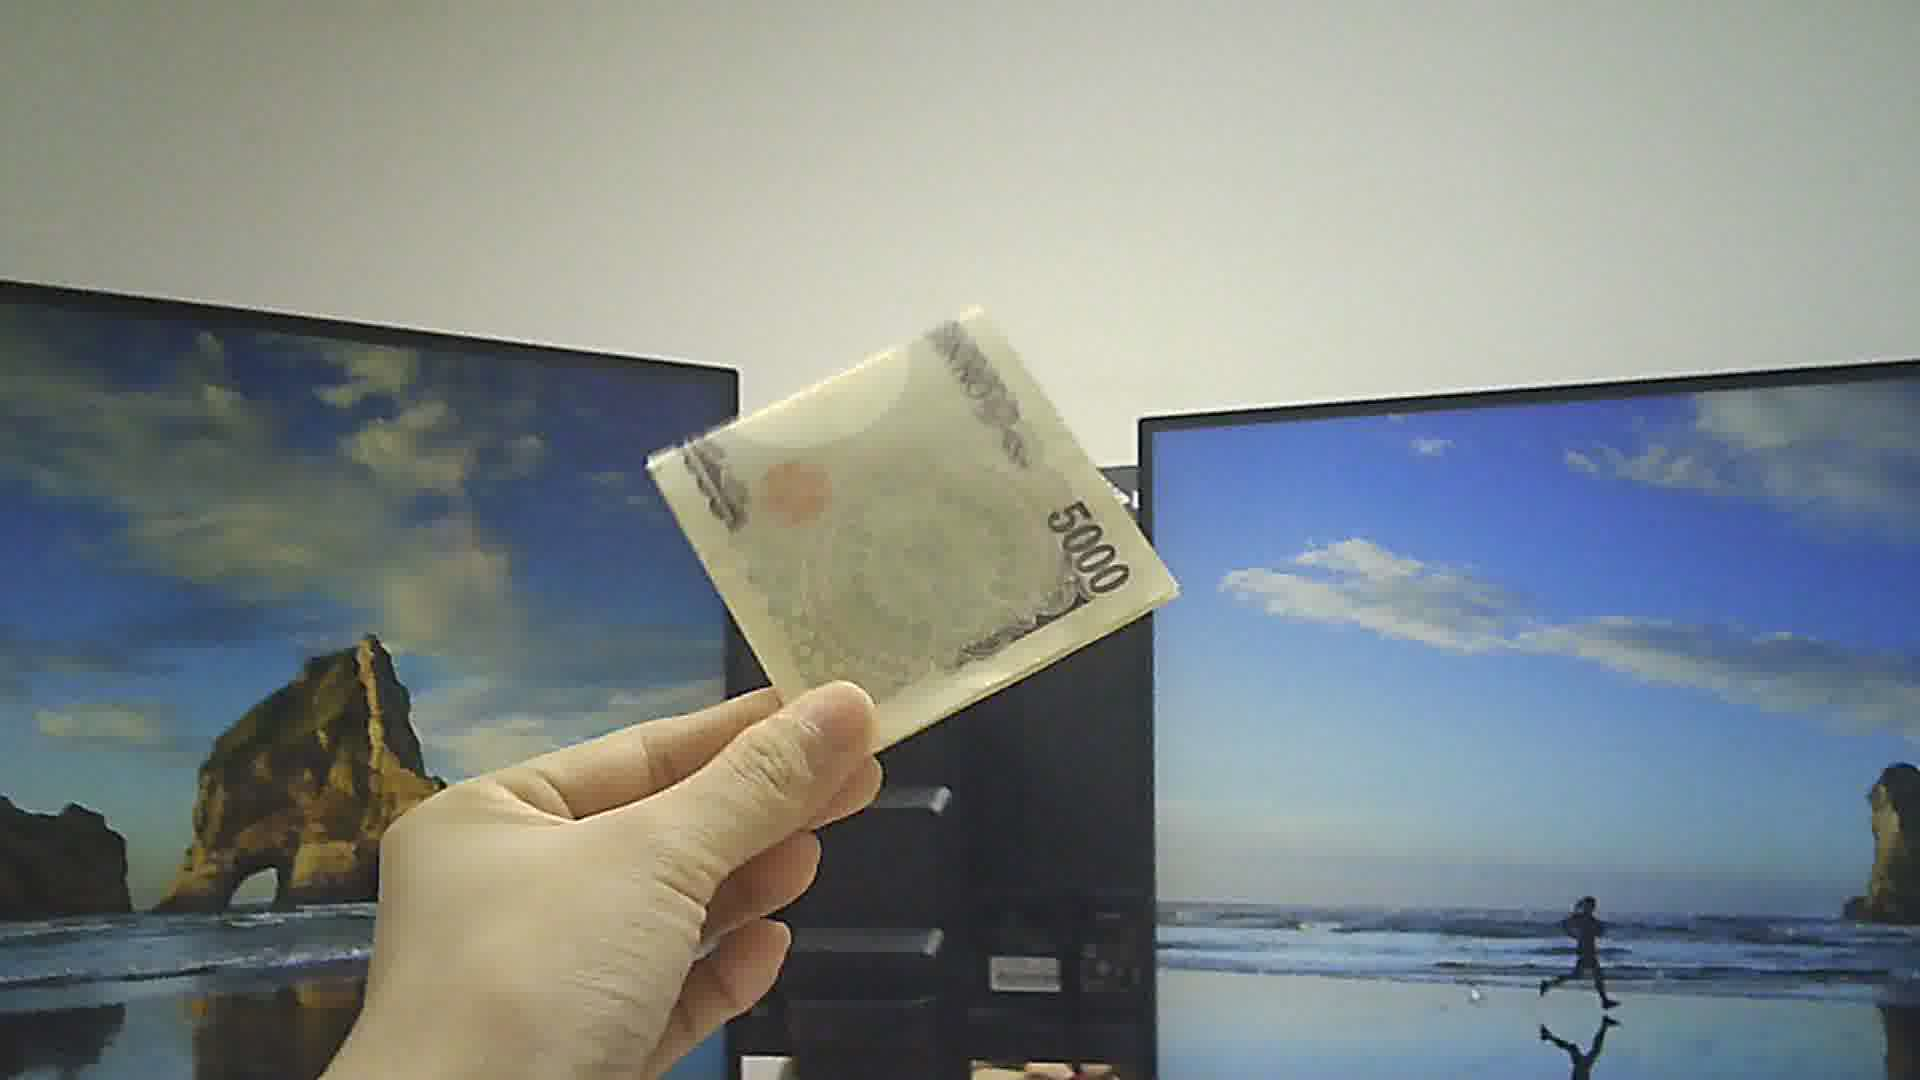5,000 Yen: (632, 286, 1170, 738)
